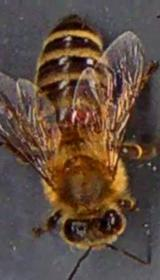varroa_mite: (66, 99, 93, 129)
